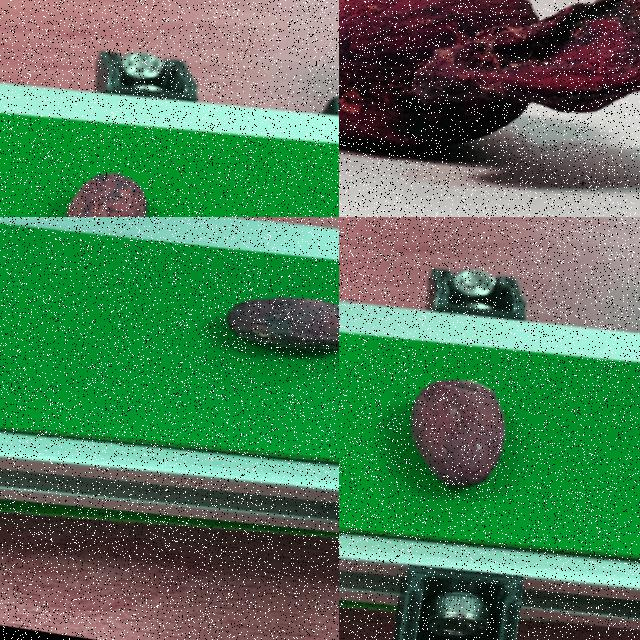Agglomerated_cocoabeans: (339, 0, 639, 216)
Fine_cocoabeans: (339, 310, 636, 593), (136, 224, 338, 452), (0, 118, 276, 216)
